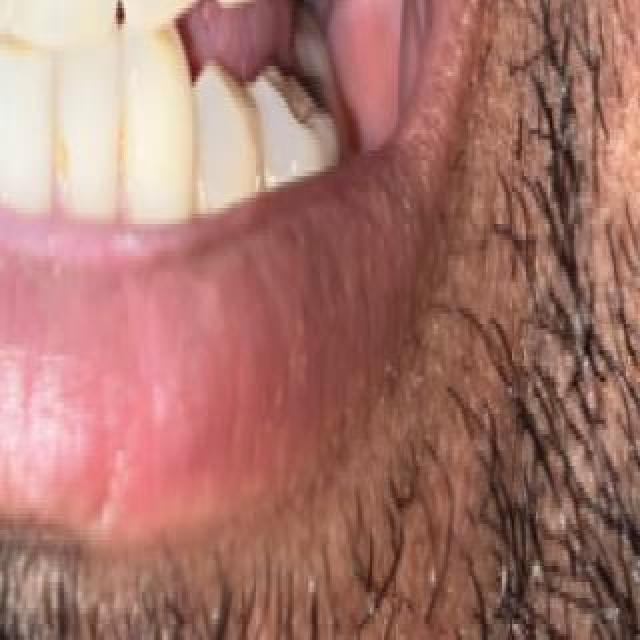maligned: (254, 18, 338, 252), (198, 0, 292, 36), (0, 0, 12, 42)
stains: (0, 100, 4, 190)
